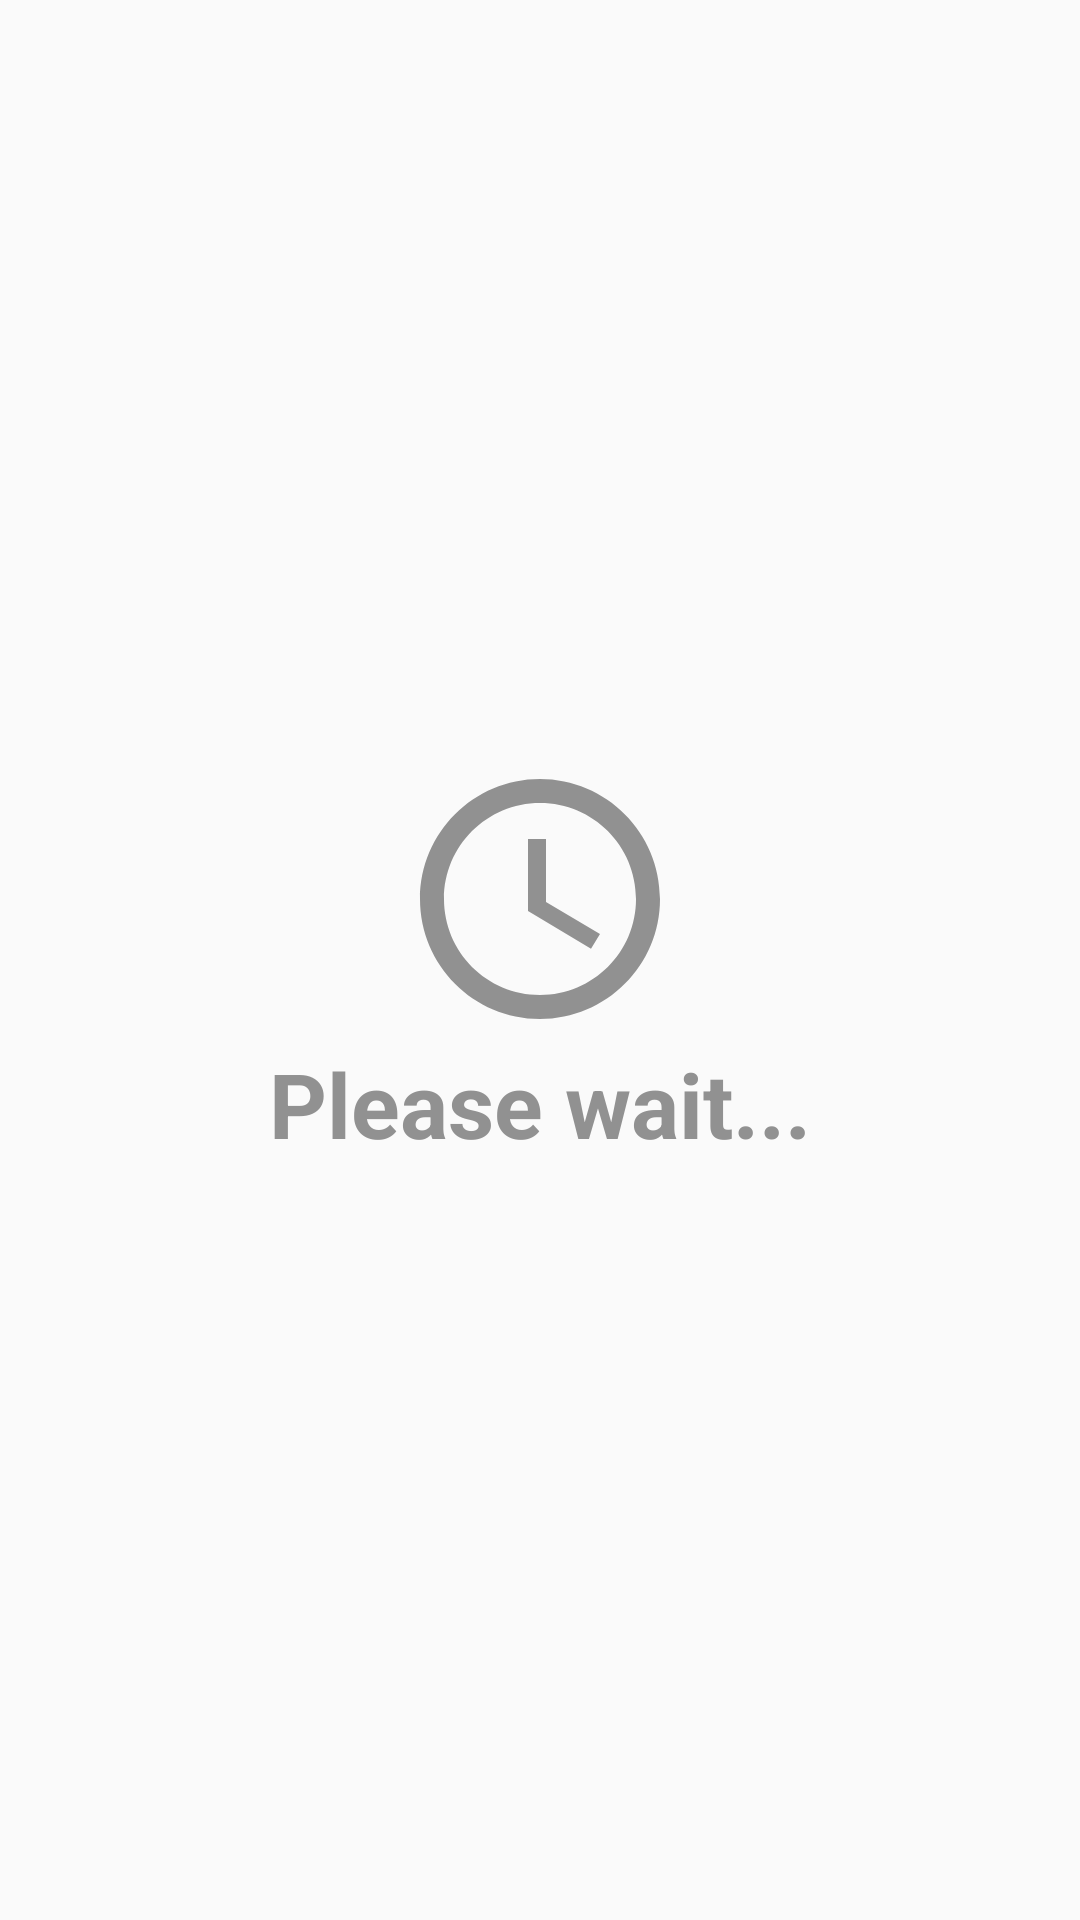

Icons on this 1080w x 1920h Android screen, each with the point to tap as [x,y]:
access time: [540,899]
